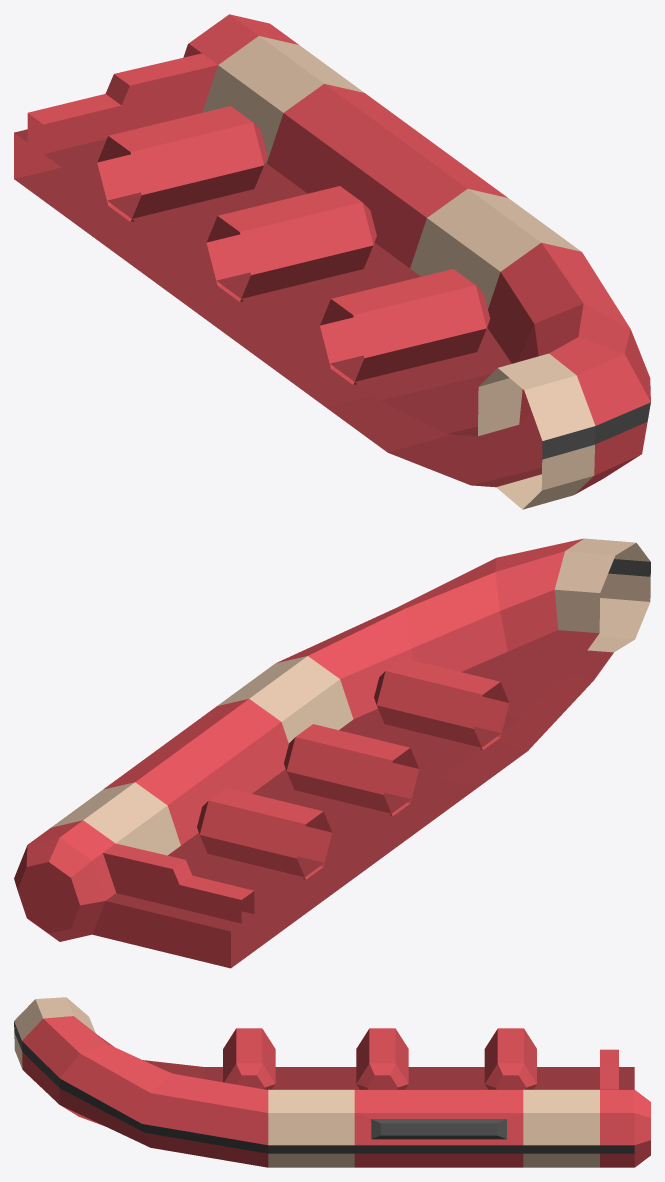
The model's file is Lifeboat.glb.
3 renders of one model, top to bottom at view 1: azimuth 30°, elevation 25°; view 2: azimuth 150°, elevation 25°; view 3: azimuth 270°, elevation 25°, orthographic. The views are drawn at different scales.
Parts seen in each view (by area): view 1: Lifeboat; view 2: Lifeboat; view 3: Lifeboat.
Part boxes in pixels (left/top/right/bottom): Lifeboat: left=14, top=14, right=650, bottom=509; Lifeboat: left=14, top=538, right=650, bottom=968; Lifeboat: left=14, top=997, right=650, bottom=1167.
Bounding box in the file's own units: 0.3236 × 0.209 × 1.11.
